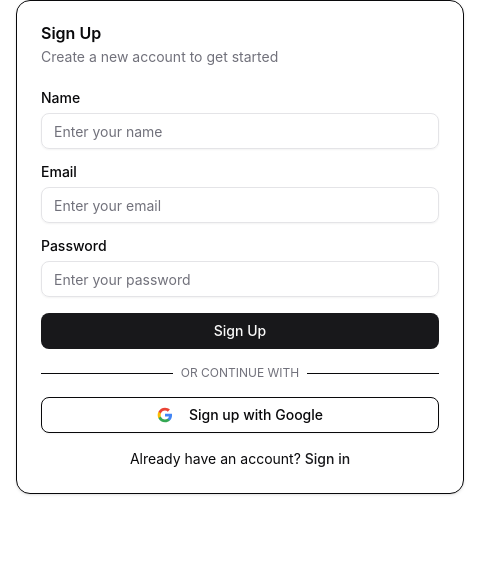
Test: SignUpForm › shows generic error on unexpected failure
Type "John Doe" into the field with placeholder "Enter your name" at (240, 131), box left=41, top=113, right=439, bottom=149
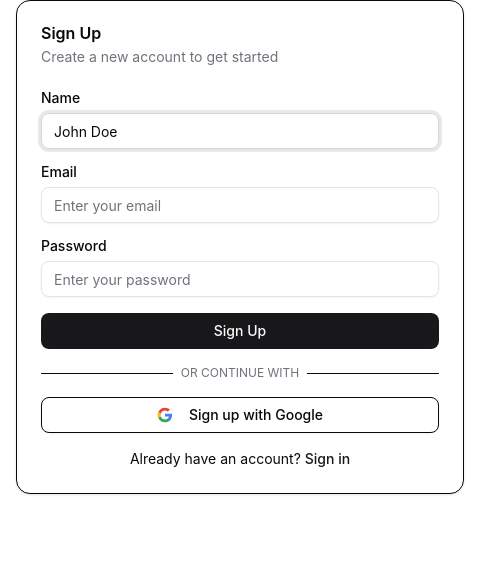
Type "test@example.com" into the field with placeholder "Enter your email" at (240, 205), box left=41, top=187, right=439, bottom=223
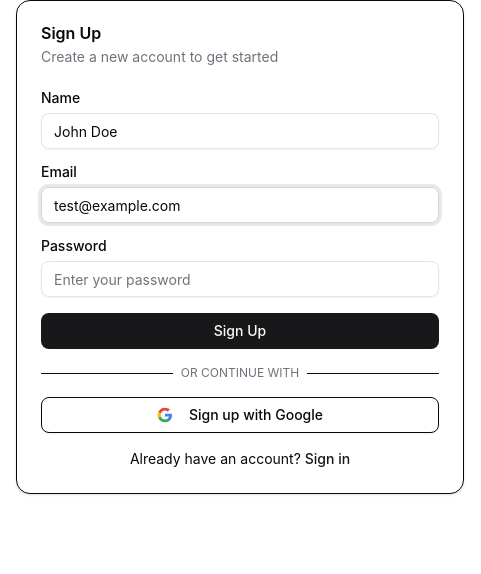
Type "password123" into the password field with placeholder "Enter your password" at (240, 279), box left=41, top=261, right=439, bottom=297
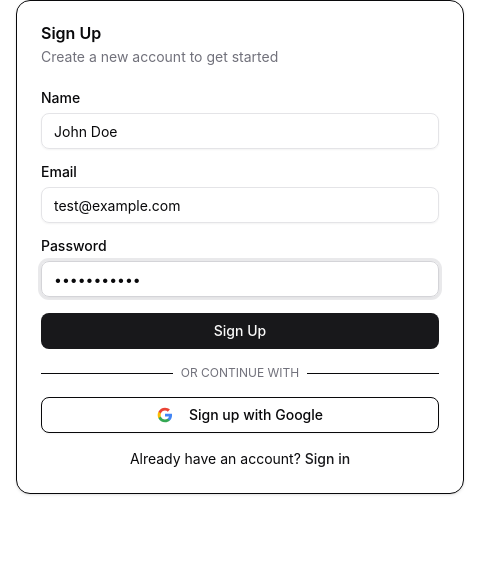
Click the button "Sign Up" at (240, 331), box left=41, top=313, right=439, bottom=349
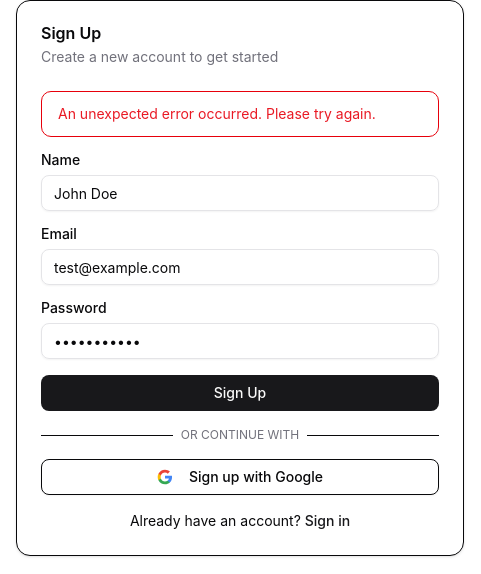
expect the text "An unexpected error occurred. Please try again." is shown: met, box left=58, top=104, right=422, bottom=124
